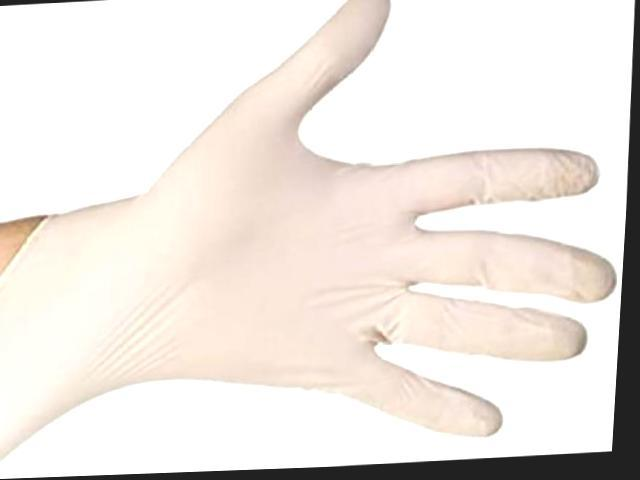Hand-in-Glove: (17, 1, 636, 480)
